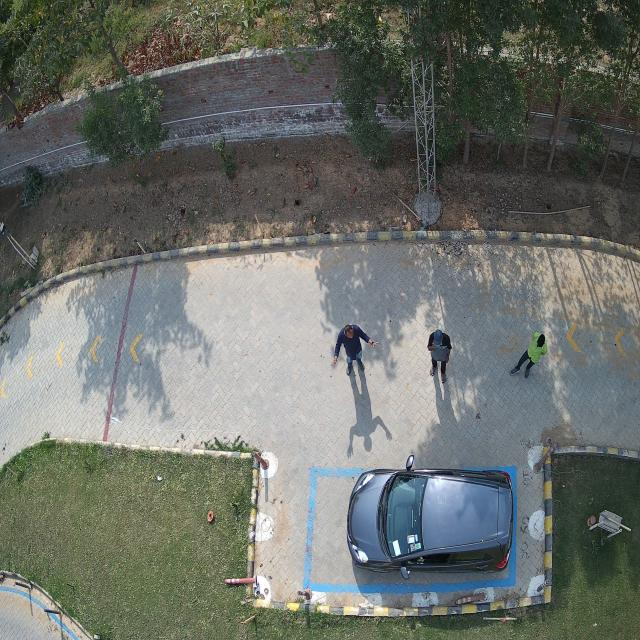car: (400, 567, 410, 580)
